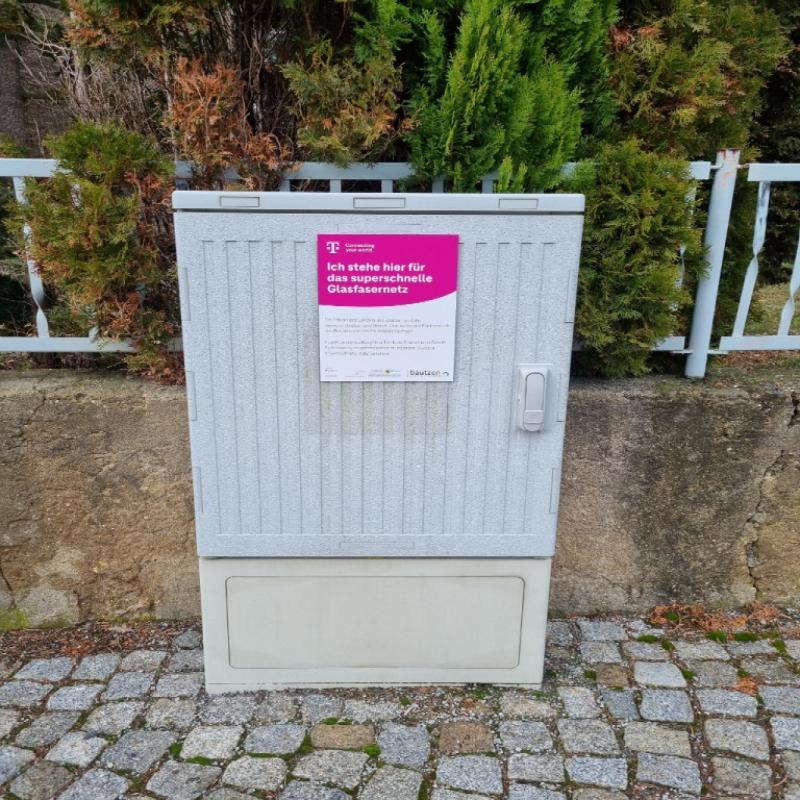NT-Gehause: (172, 190, 575, 688)
Steaker: (320, 235, 460, 381)
